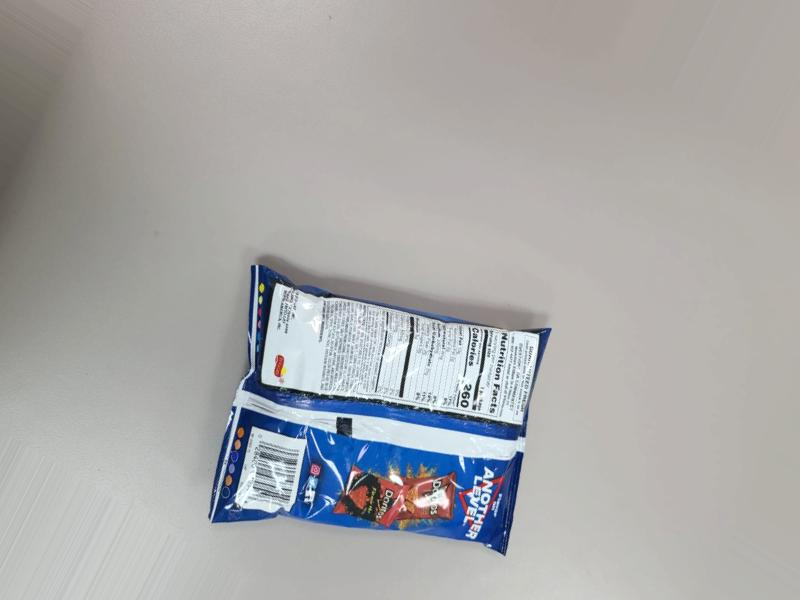doritos: (212, 258, 527, 575)
